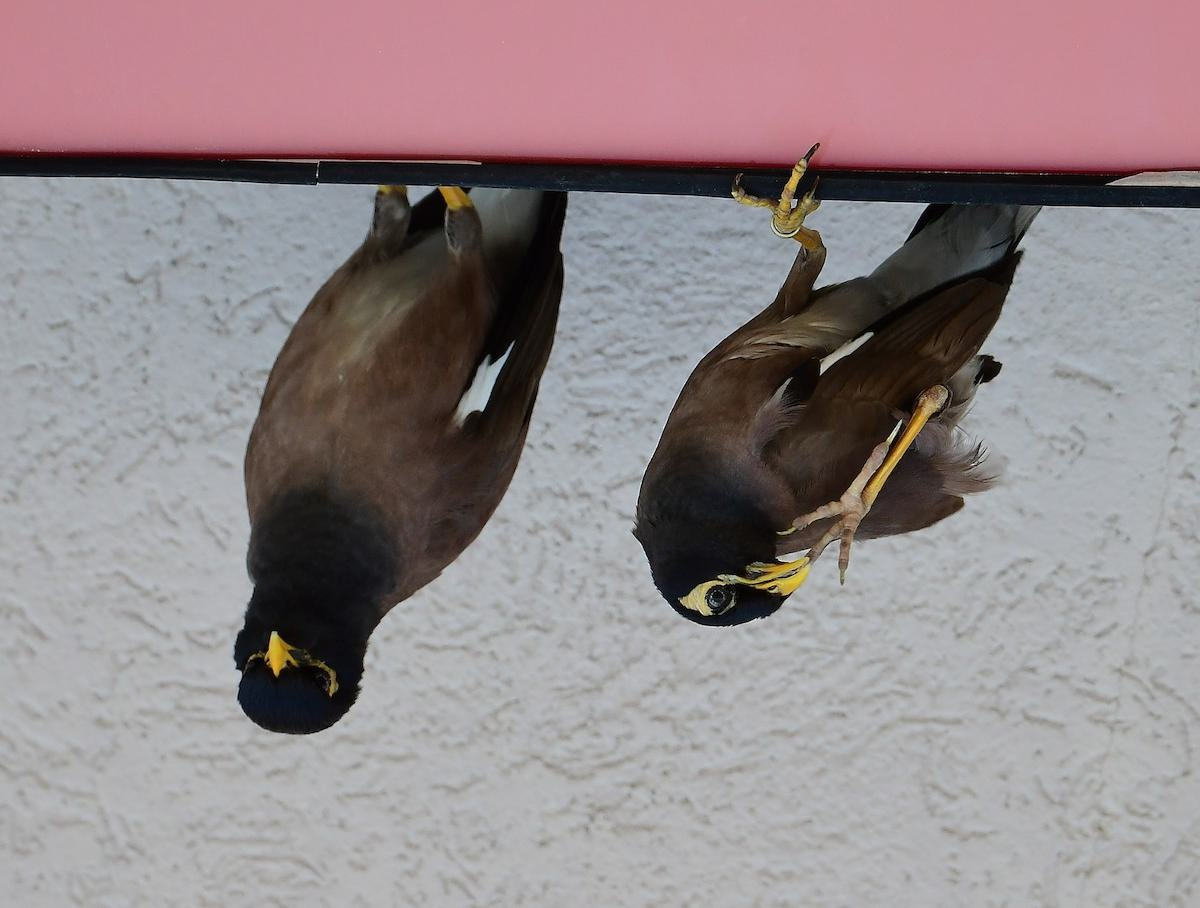myna: (173, 161, 618, 766), (624, 169, 1109, 646)
